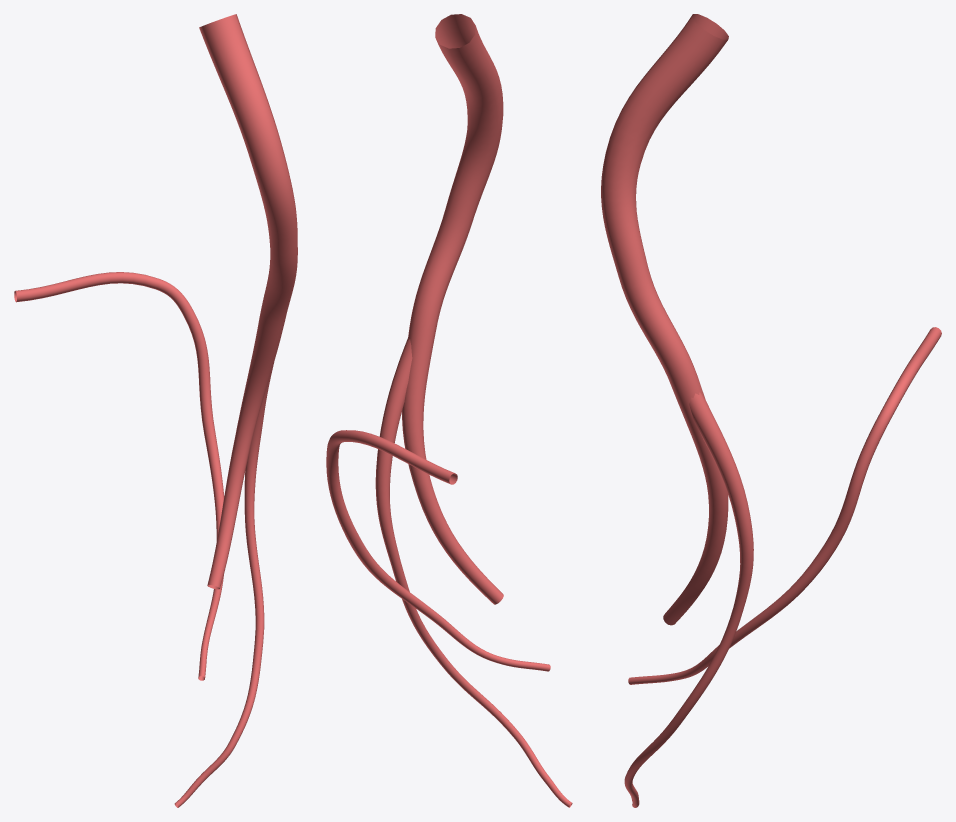
The model's file is Superior_medial_genicular_artery.r_BezierCurve.233.glb.
3 views of the same model, side by side, from view 1: azimuth 30°, elevation 25°; view 2: azimuth 150°, elevation 25°; view 3: azimuth 270°, elevation 25° (orthographic). The views are drawn at different scales.
Visible parts, largest first — view 1: Superior_medial_genicular_artery.r_BezierCurve.233; view 2: Superior_medial_genicular_artery.r_BezierCurve.233; view 3: Superior_medial_genicular_artery.r_BezierCurve.233.
Boxes of the visible parts, x1=… form: Superior_medial_genicular_artery.r_BezierCurve.233: x1=14, y1=14, x2=297, y2=807; Superior_medial_genicular_artery.r_BezierCurve.233: x1=326, y1=14, x2=572, y2=807; Superior_medial_genicular_artery.r_BezierCurve.233: x1=601, y1=14, x2=941, y2=807.
Size of the model in its own units: 0.0326 by 0.1451 by 0.0539.
